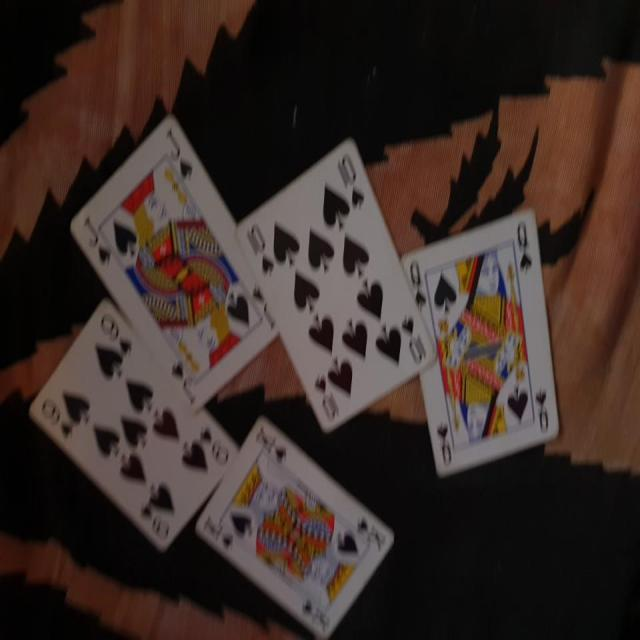10 Spades: (231, 126, 443, 433)
9 Spades: (28, 297, 242, 564)
J Spades: (65, 118, 288, 406)
K Spades: (197, 411, 403, 628)
Q Spades: (402, 209, 562, 484)
